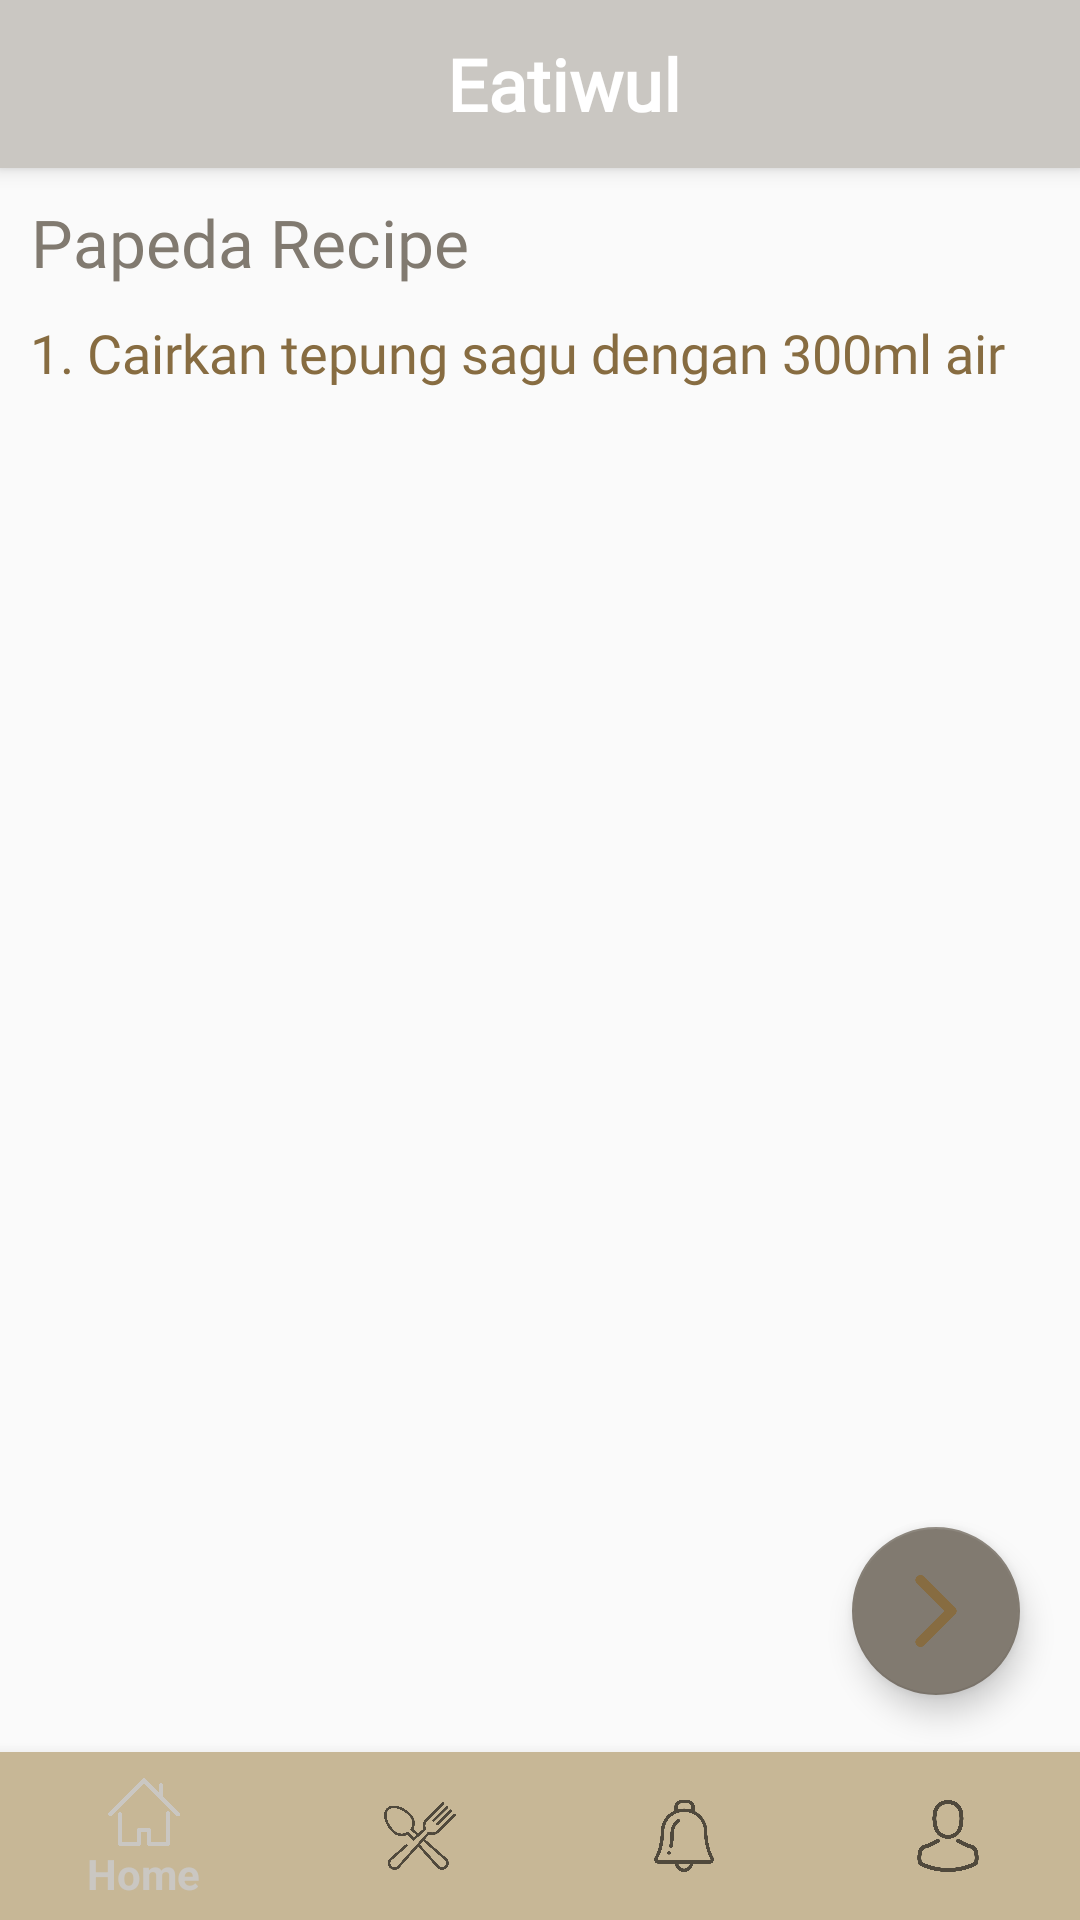

Icon click points for this 1080px x 1920px phone screenshot, format (x,y):
right: (936,1611)
